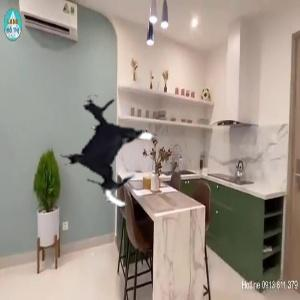drone: (51, 88, 177, 214)
